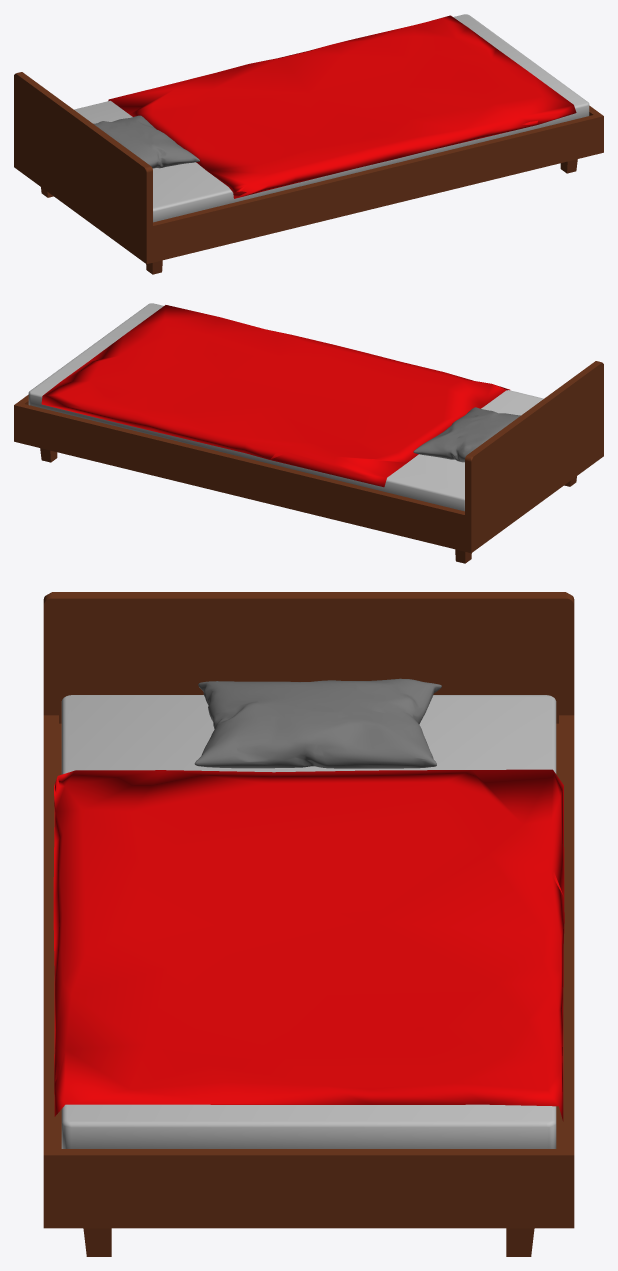
File: Bed.glb
3 views of the same model, one above another, from view 1: azimuth 30°, elevation 25°; view 2: azimuth 150°, elevation 25°; view 3: azimuth 270°, elevation 25° (orthographic). The views are drawn at different scales.
Parts seen in each view (by area): view 1: Blanket, Frame, matrass, pillow; view 2: Blanket, Frame, matrass, pillow; view 3: Blanket, Frame, matrass, pillow.
Boxes of the visible parts, x1,y1,x2,y2 form: Blanket: [108, 15, 576, 198]; Frame: [14, 72, 603, 274]; matrass: [74, 14, 589, 222]; pillow: [93, 115, 199, 168]; Blanket: [41, 305, 509, 487]; Frame: [14, 361, 603, 563]; matrass: [28, 303, 543, 511]; pillow: [413, 407, 520, 462]; Blanket: [53, 769, 564, 1121]; Frame: [43, 592, 574, 1256]; matrass: [61, 695, 556, 1148]; pillow: [194, 678, 441, 768].
Bounding box in the file's own units: 7.96 × 1.95 × 4.
